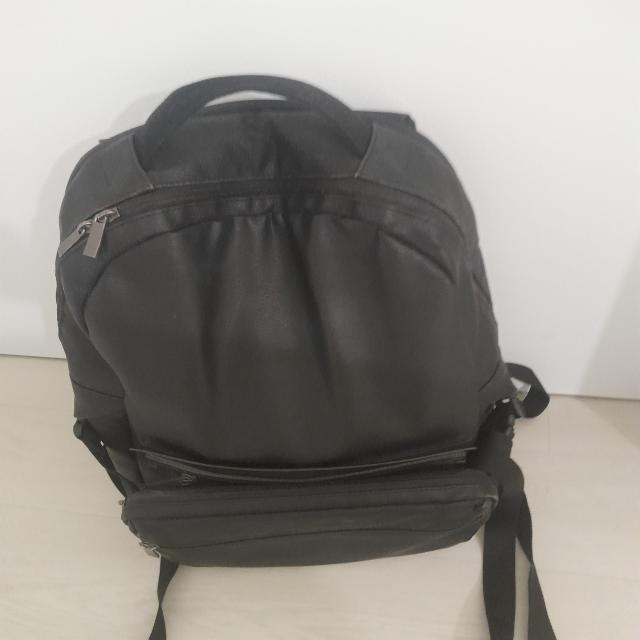backpack: (57, 73, 552, 640)
